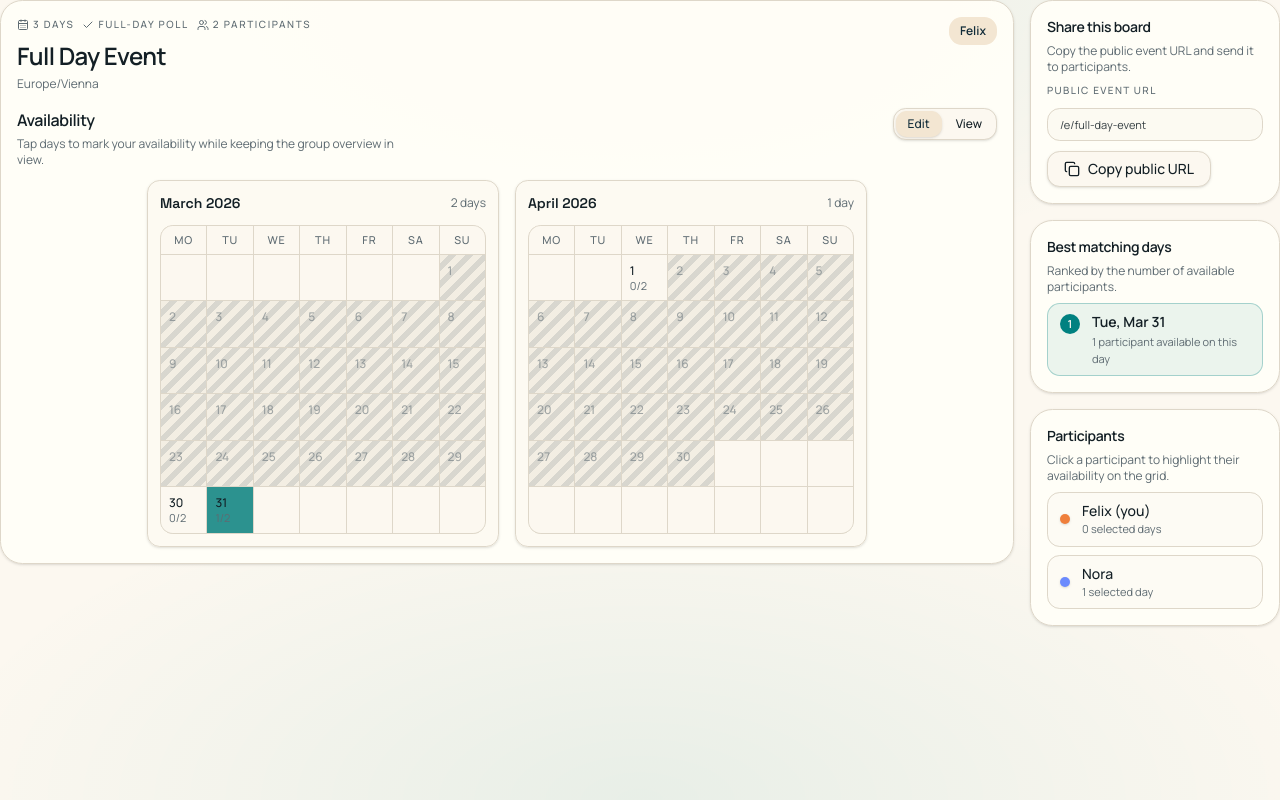
Test case: PublicEventClient › lets full-day participants switch to view mode without saving
Expected: the text "Day details" is not shown
Click the button "View" at [969, 124], box [944,111,994,137]
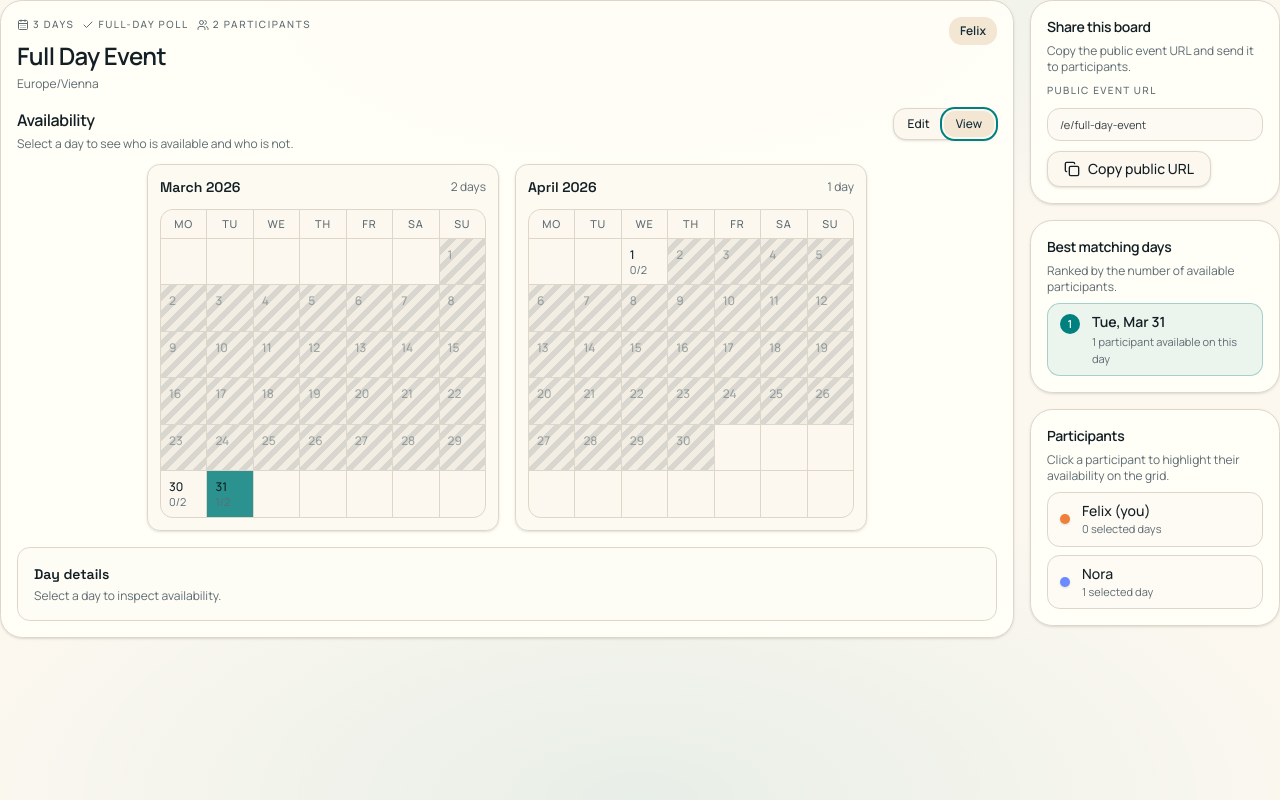
Expected: the button "Edit" is not pressed, [896,111,942,137]
Expected: the button "View" is pressed, [944,111,994,137]
Click the button named "Mon, Mar 30 · nobody available" at [184, 494], box [161,471,206,517]
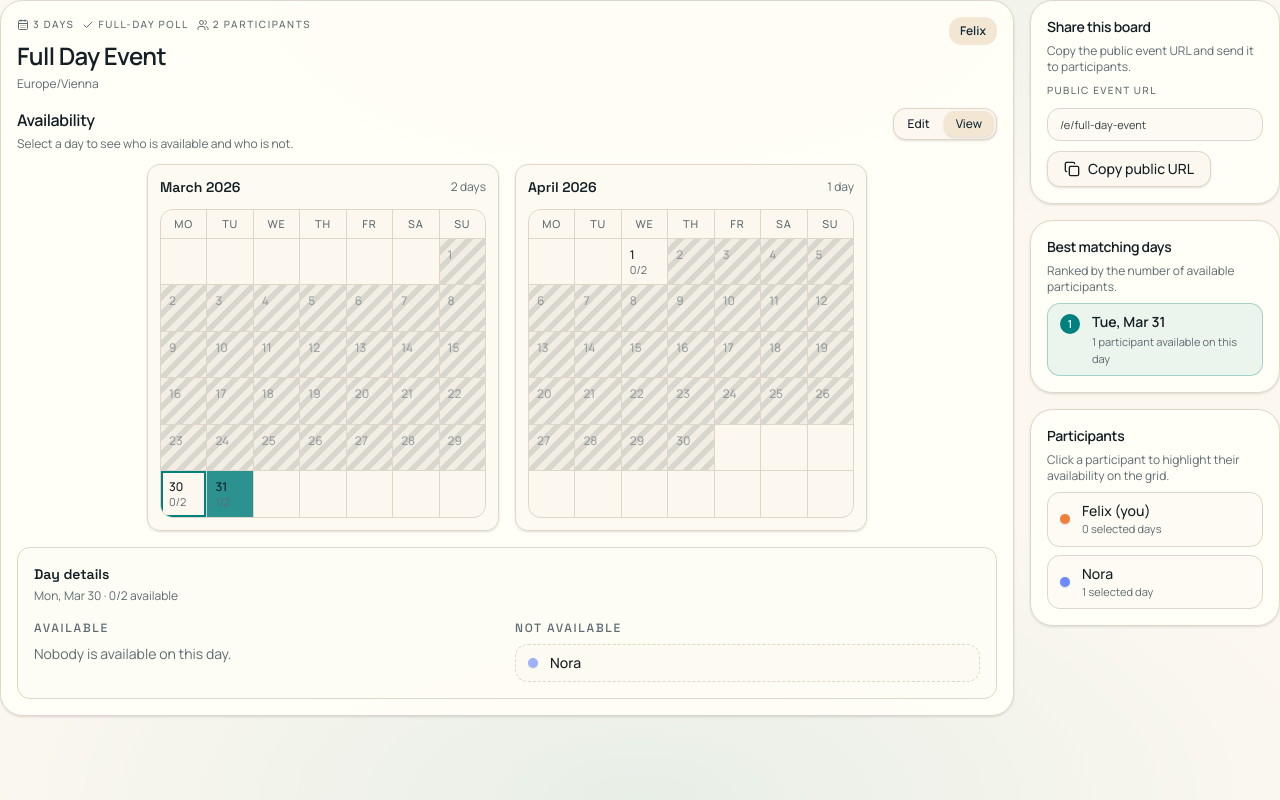
Expected: the heading "Day details" is shown, [34,565,109,583]
Expected: the text "Mon, Mar 30 · 0/2 available" is shown, [34,587,178,604]
